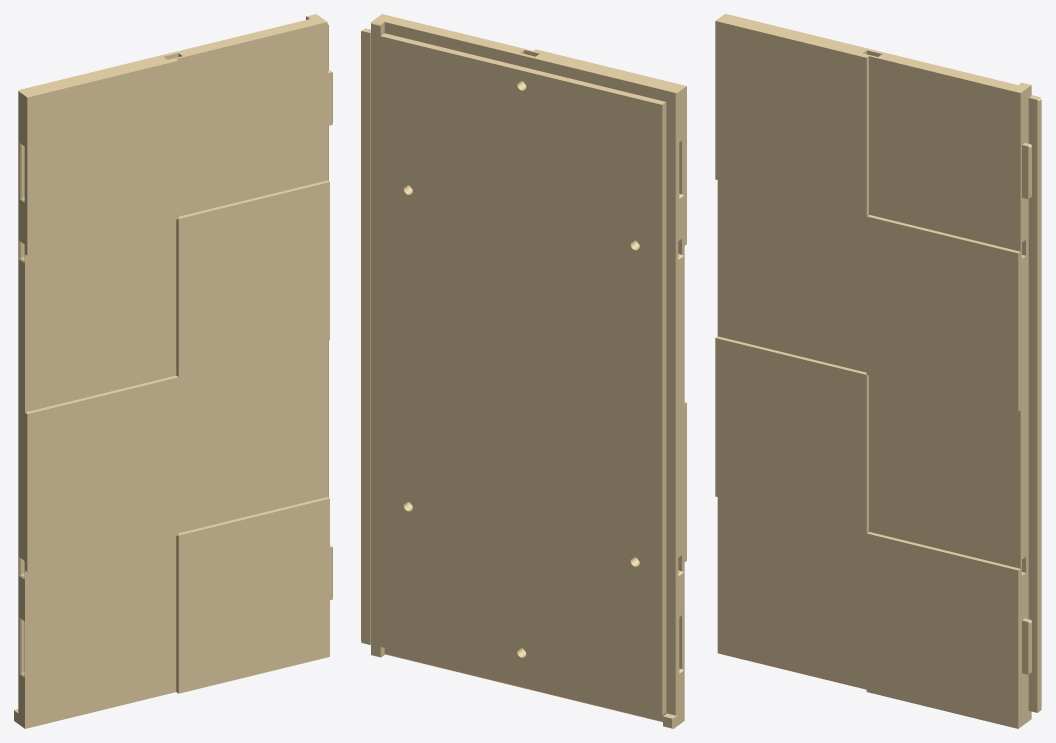
The model's file is .panel_north_cd_light_body.step.glb.
3 views of the same model, side by side, from view 1: azimuth 30°, elevation 25°; view 2: azimuth 150°, elevation 25°; view 3: azimuth 330°, elevation 25° (orthographic).
Visible parts, largest first — view 1: o1; view 2: o1; view 3: o1.
Boxes of the visible parts, <box> form: o1: <box>14,14,332,728</box>; o1: <box>361,14,686,728</box>; o1: <box>715,14,1041,728</box>.
Size of the model in its own units: 0.124 by 0.24 by 0.0096.
